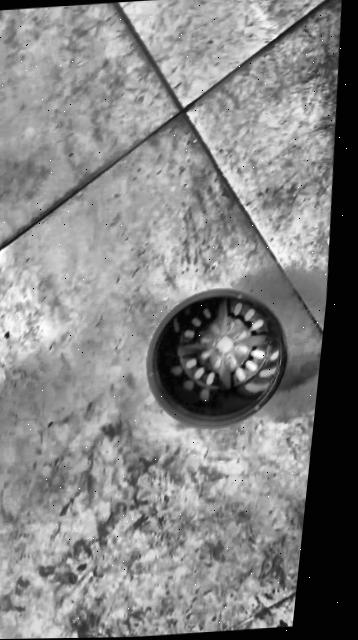pot: (135, 284, 298, 429)
